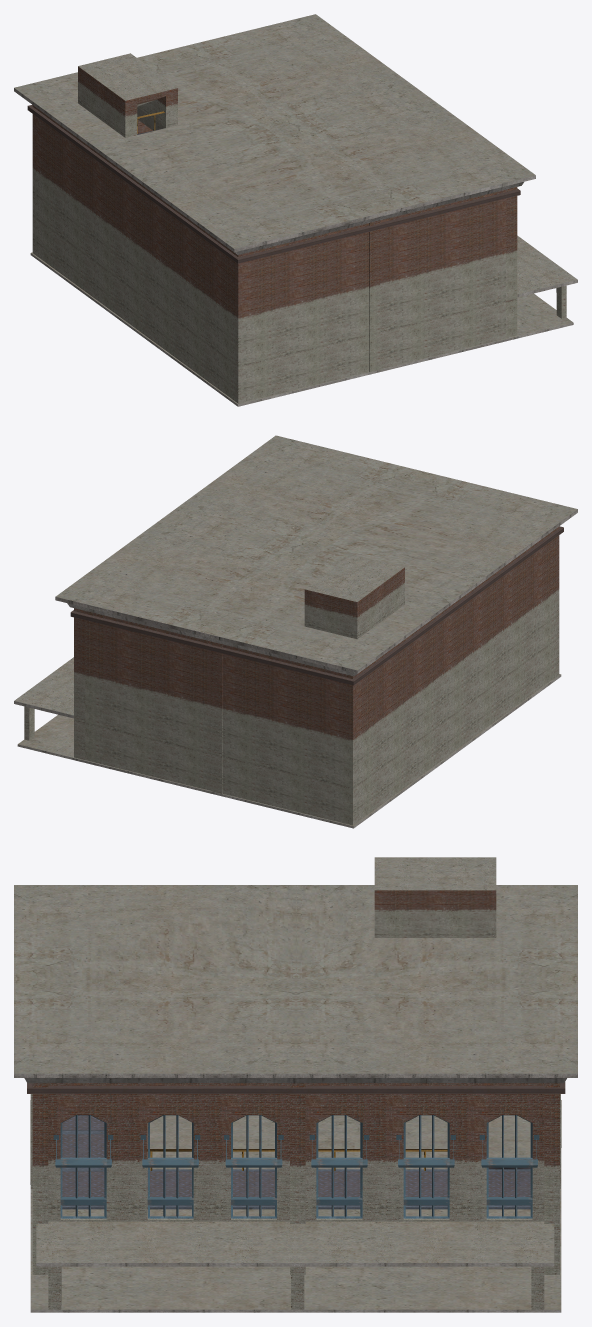
File: Building_Factoryhouse02_2048_lod1.glb
The picture shows the model from 3 angles, top to bottom: view 1: azimuth 30°, elevation 25°; view 2: azimuth 150°, elevation 25°; view 3: azimuth 270°, elevation 25°; orthographic projection. The views are drawn at different scales.
Visible parts, largest first — view 1: xiutz_factoryhouse_02_lod1; view 2: xiutz_factoryhouse_02_lod1; view 3: xiutz_factoryhouse_02_lod1.
Boxes of the visible parts, <box> form: xiutz_factoryhouse_02_lod1: <box>14,14,577,406</box>; xiutz_factoryhouse_02_lod1: <box>14,435,577,828</box>; xiutz_factoryhouse_02_lod1: <box>14,857,577,1312</box>.
Bounding box in the file's own units: 45.71 × 25.06 × 49.47.
Materials: 1 (1 with a texture image).
